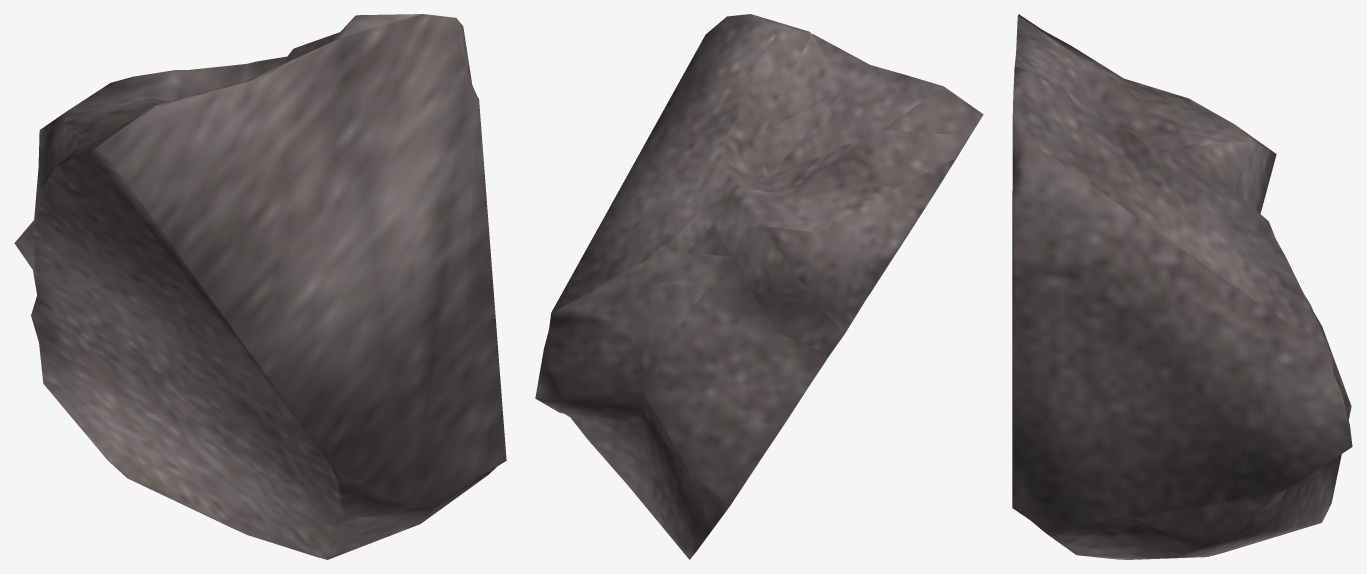
Rendered from boulder_1.glb.
3 renders of one model, left to right at view 1: azimuth 30°, elevation 25°; view 2: azimuth 150°, elevation 25°; view 3: azimuth 270°, elevation 25°, orthographic. The views are drawn at different scales.
Parts seen in each view (by area): view 1: boulder_1; view 2: boulder_1; view 3: boulder_1.
Part boxes in pixels (box(x1,y1,x2,y2)): boulder_1: box(14, 14, 506, 559); boulder_1: box(535, 14, 983, 559); boulder_1: box(1012, 14, 1352, 559).
Size of the model in its own units: 1.87 by 2.6 by 1.65.
1 material, 1 textured.
